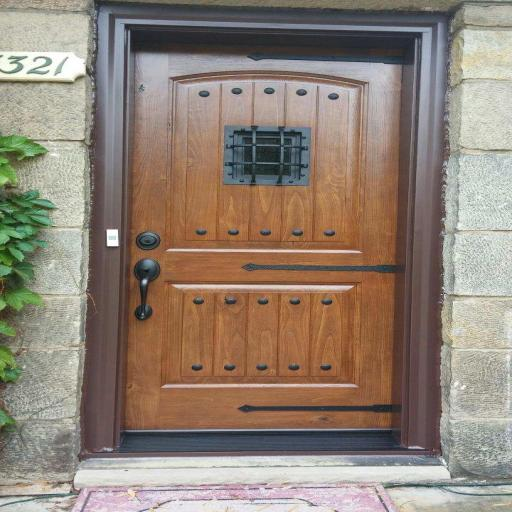Door: (124, 40, 405, 432)
